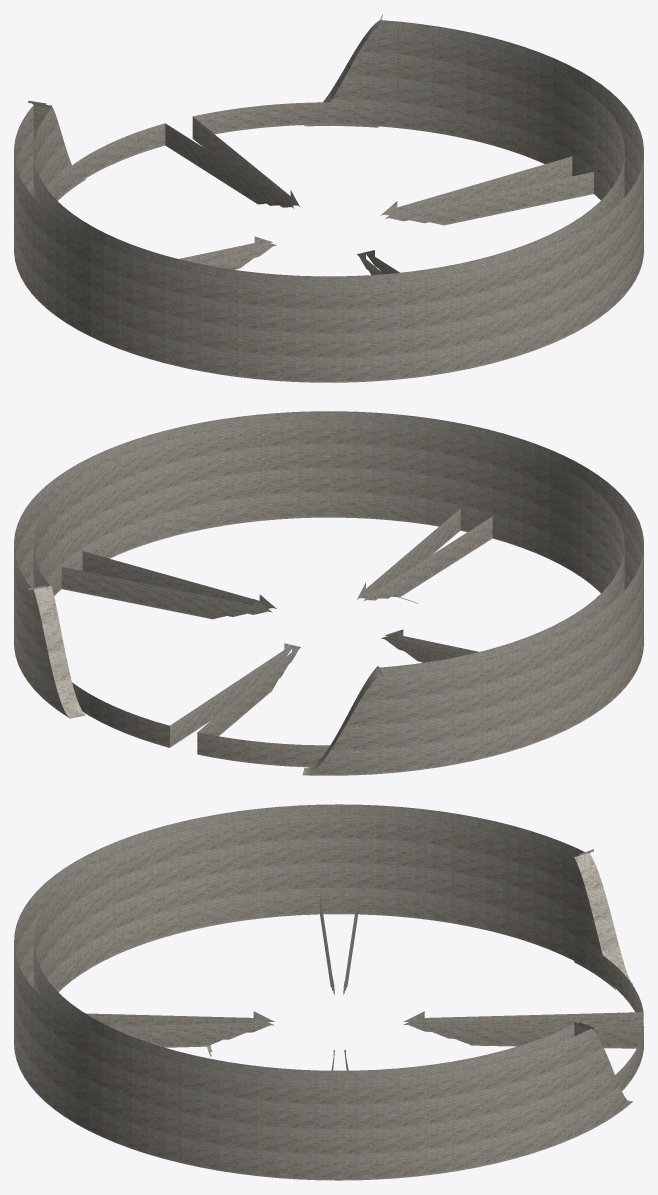
The model's file is Body.fbx.
3 renders of one model, top to bottom at view 1: azimuth 30°, elevation 25°; view 2: azimuth 150°, elevation 25°; view 3: azimuth 270°, elevation 25°, orthographic. The views are drawn at different scales.
Visible parts, largest first — view 1: Body; view 2: Body; view 3: Body.
Part boxes in pixels (left/top/right/bottom): Body: left=14, top=14, right=643, bottom=382; Body: left=14, top=411, right=643, bottom=775; Body: left=14, top=804, right=643, bottom=1180.
Size of the model in its own units: 9347 by 1688 by 9058.
